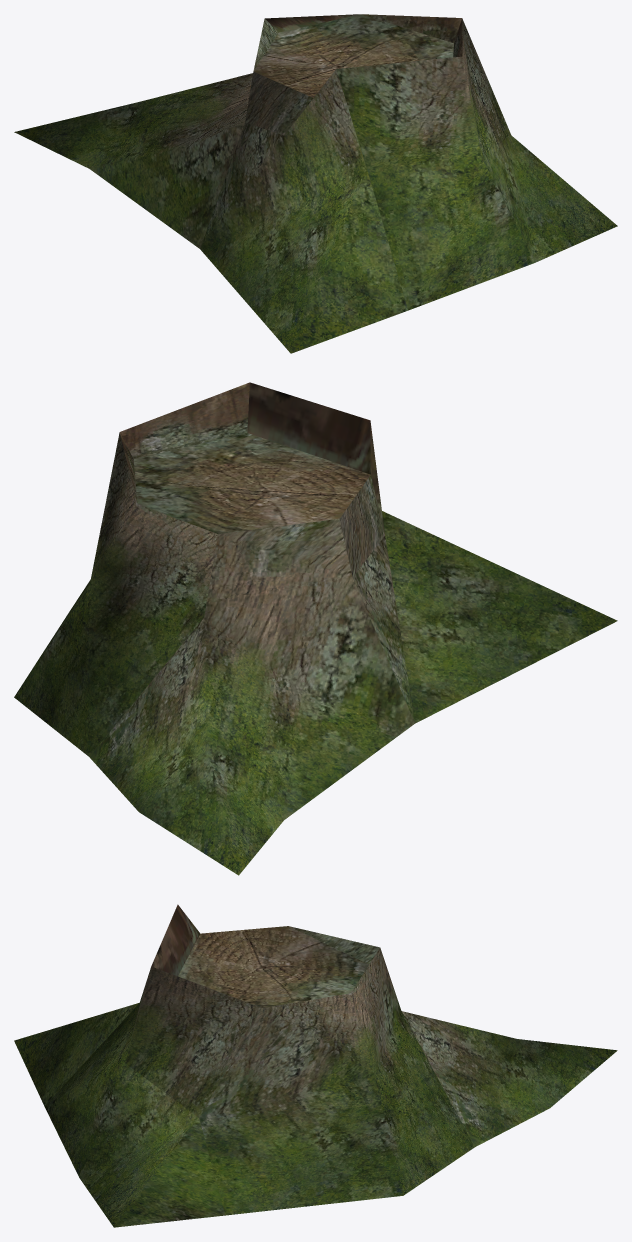
Rendered from Vegetation_Shugen0101_lod2.glb.
3 renders of one model, top to bottom at view 1: azimuth 30°, elevation 25°; view 2: azimuth 150°, elevation 25°; view 3: azimuth 270°, elevation 25°, orthographic. The views are drawn at different scales.
Parts seen in each view (by area): view 1: common_shugen01_01_lod02; view 2: common_shugen01_01_lod02; view 3: common_shugen01_01_lod02.
Boxes of the visible parts, x1=… form: common_shugen01_01_lod02: x1=14, y1=14, x2=617, y2=353; common_shugen01_01_lod02: x1=14, y1=382, x2=617, y2=875; common_shugen01_01_lod02: x1=14, y1=904, x2=617, y2=1227.
Bounding box in the file's own units: 6.66 × 3.3 × 9.09.
1 material, 1 textured.
